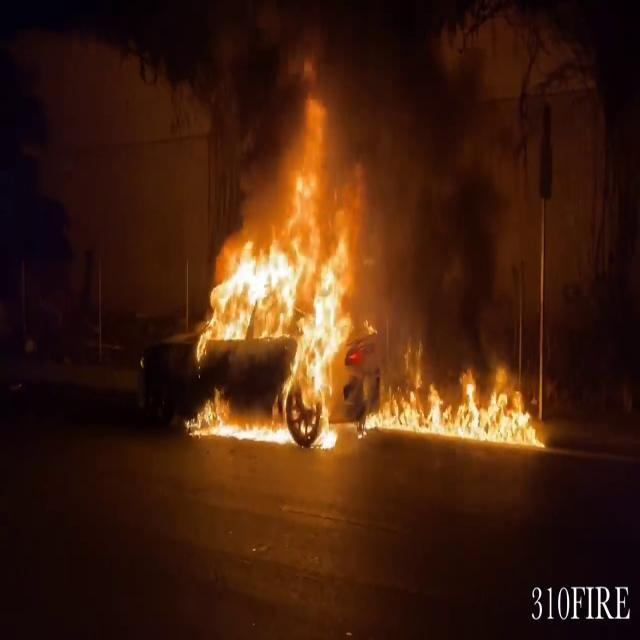Fire: (186, 142, 370, 452), (377, 357, 542, 451)
